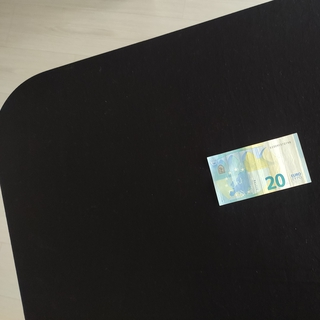20EUROBack: (206, 132, 311, 205)
